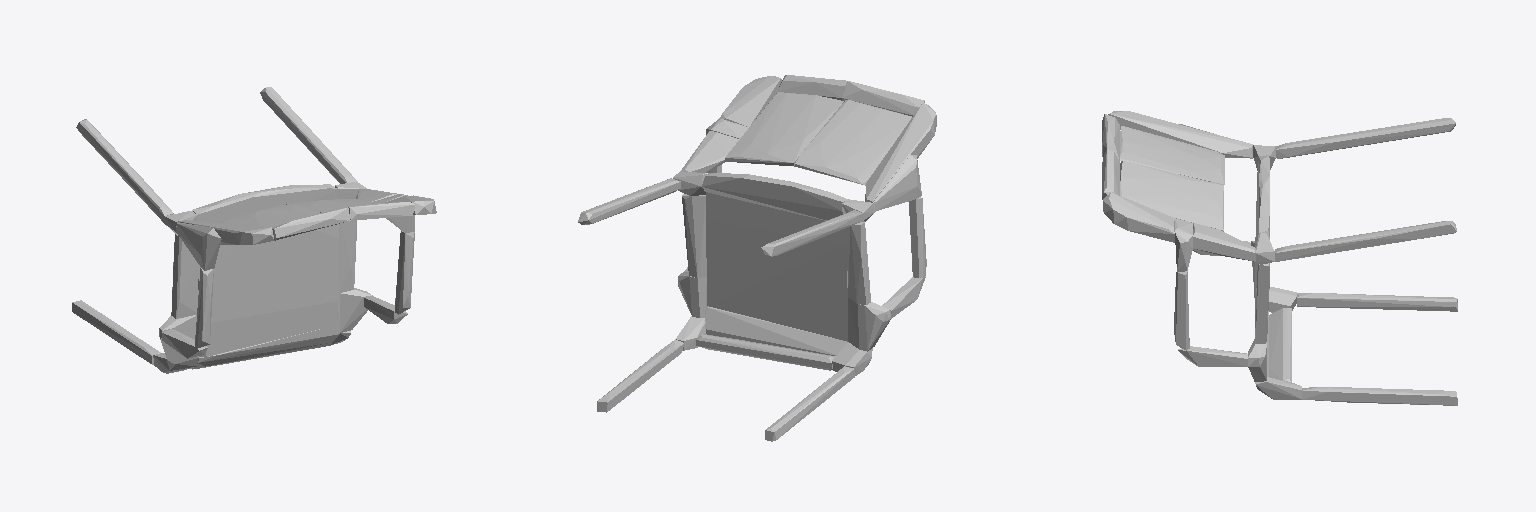
3 renders of one model, left to right at view 1: azimuth 30°, elevation 25°; view 2: azimuth 150°, elevation 25°; view 3: azimuth 270°, elevation 25°, orthographic.
Visible parts, largest first — view 1: convex_12, convex_24, convex_11, convex_19, convex_2, convex_6, convex_0, convex_4, convex_9, convex_10, convex_27, convex_13 (+8 smaller); view 2: convex_12, convex_13, convex_14, convex_24, convex_11, convex_9, convex_22, convex_27, convex_21, convex_0, convex_6, convex_5 (+13 smaller); view 3: convex_14, convex_13, convex_2, convex_19, convex_9, convex_0, convex_17, convex_21, convex_22, convex_25, convex_28, convex_10 (+8 smaller).
Boxes of the visible parts, x1,y1,x2,y2 form: convex_12: [198, 224, 339, 356]; convex_24: [192, 184, 337, 222]; convex_11: [192, 325, 339, 368]; convex_19: [260, 87, 357, 183]; convex_2: [76, 119, 173, 223]; convex_6: [171, 234, 198, 318]; convex_0: [72, 300, 160, 364]; convex_4: [176, 222, 221, 270]; convex_9: [178, 220, 274, 244]; convex_10: [395, 231, 414, 314]; convex_27: [339, 220, 356, 292]; convex_13: [222, 204, 319, 227]; convex_12: [706, 192, 847, 341]; convex_13: [794, 100, 911, 185]; convex_14: [725, 92, 843, 165]; convex_24: [702, 173, 847, 220]; convex_11: [705, 307, 847, 355]; convex_9: [865, 102, 936, 202]; convex_22: [696, 334, 835, 370]; convex_27: [682, 194, 706, 277]; convex_21: [719, 76, 781, 126]; convex_0: [765, 366, 854, 441]; convex_6: [847, 222, 870, 304]; convex_5: [848, 298, 890, 351]; convex_14: [1120, 161, 1223, 231]; convex_13: [1120, 126, 1224, 184]; convex_2: [1276, 118, 1455, 158]; convex_19: [1275, 221, 1456, 261]; convex_9: [1108, 111, 1252, 158]; convex_0: [1297, 293, 1457, 311]; convex_17: [1302, 387, 1457, 405]; convex_21: [1103, 192, 1174, 242]; convex_22: [1269, 308, 1291, 381]; convex_25: [1193, 223, 1255, 261]; convex_28: [1178, 346, 1247, 366]; convex_10: [1174, 271, 1189, 350].
Size of the model in its own units: 0.5561 by 0.5374 by 0.7885.